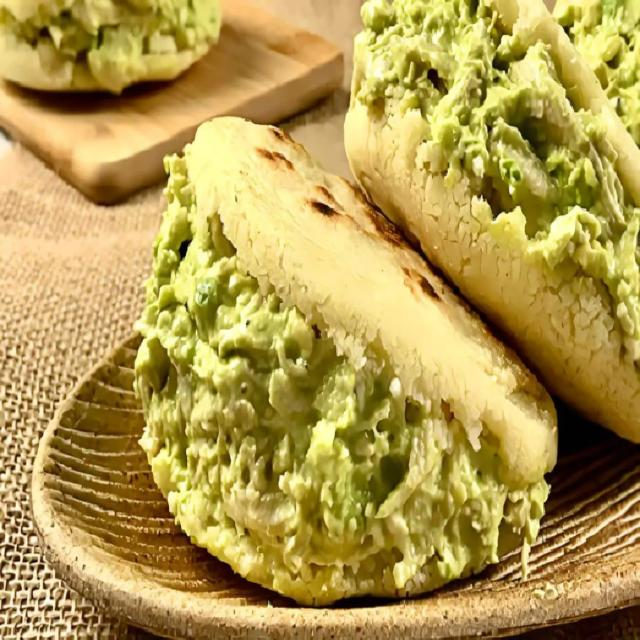arepa: (188, 110, 557, 462)
